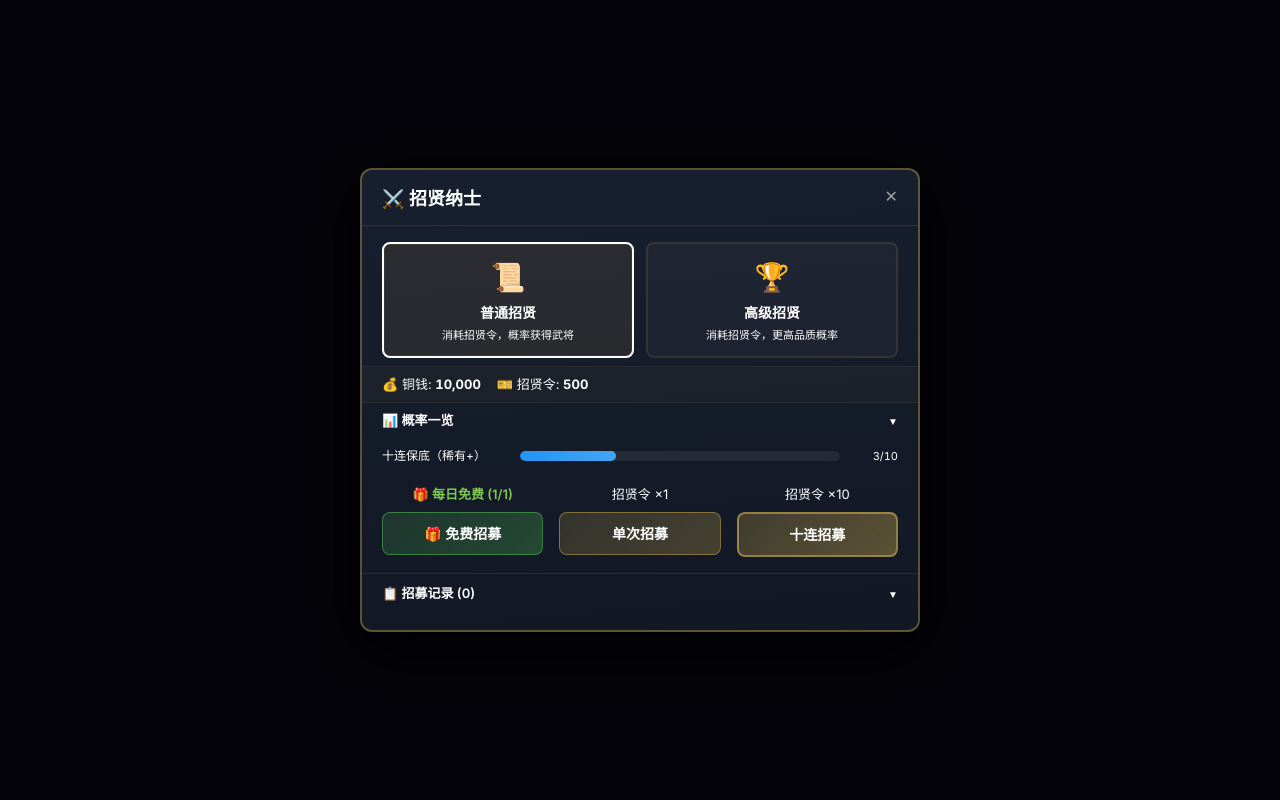
RecruitModal › 切换到高级招贤后概率表应更新
What coordinates should you click on to do the following:
click the button with test id "recruit-rates-toggle"
I would click on:
 (418, 420)
Its box is x1=382 y1=403 x2=898 y2=439.
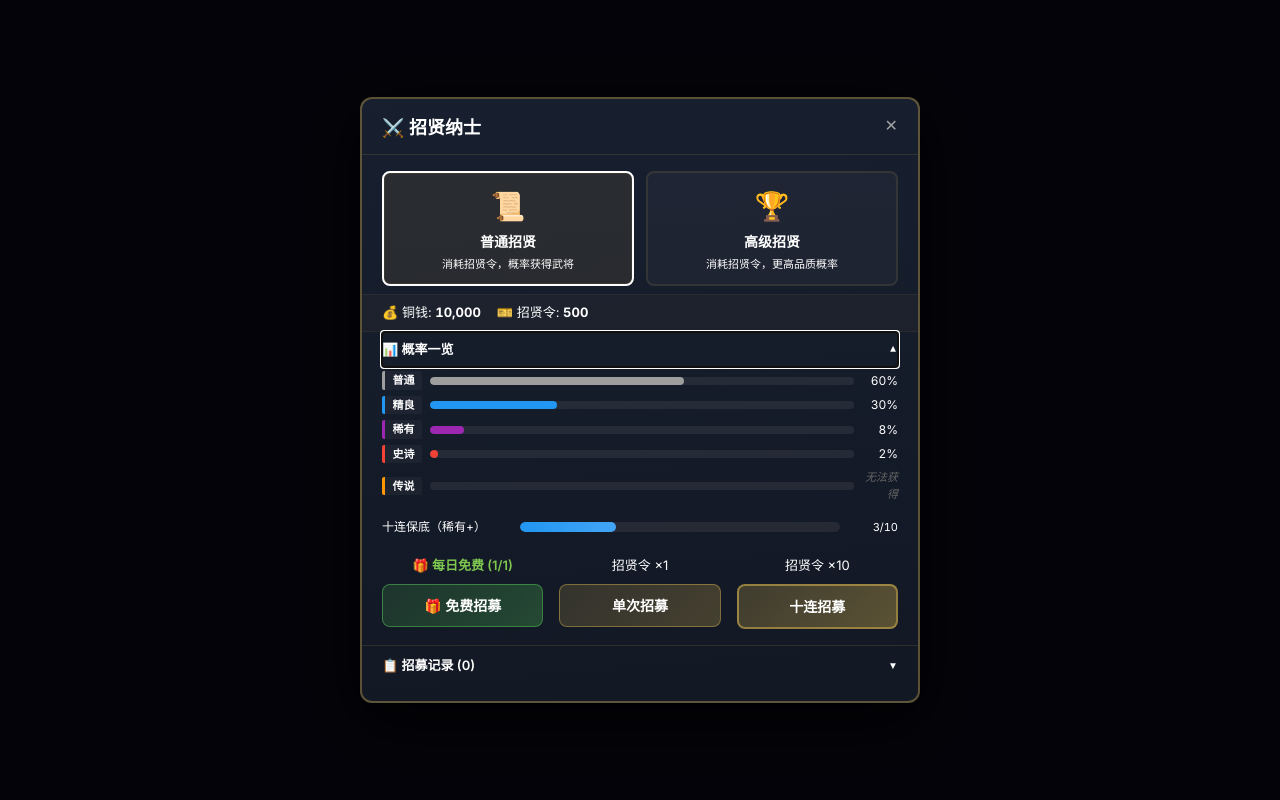
 切换到高级招贤
What coordinates should you click on to do the following:
click the button "🏆 高级招贤 消耗招贤令，更高品质概率"
I would click on:
 (772, 229)
Its box is x1=646 y1=171 x2=898 y2=286.
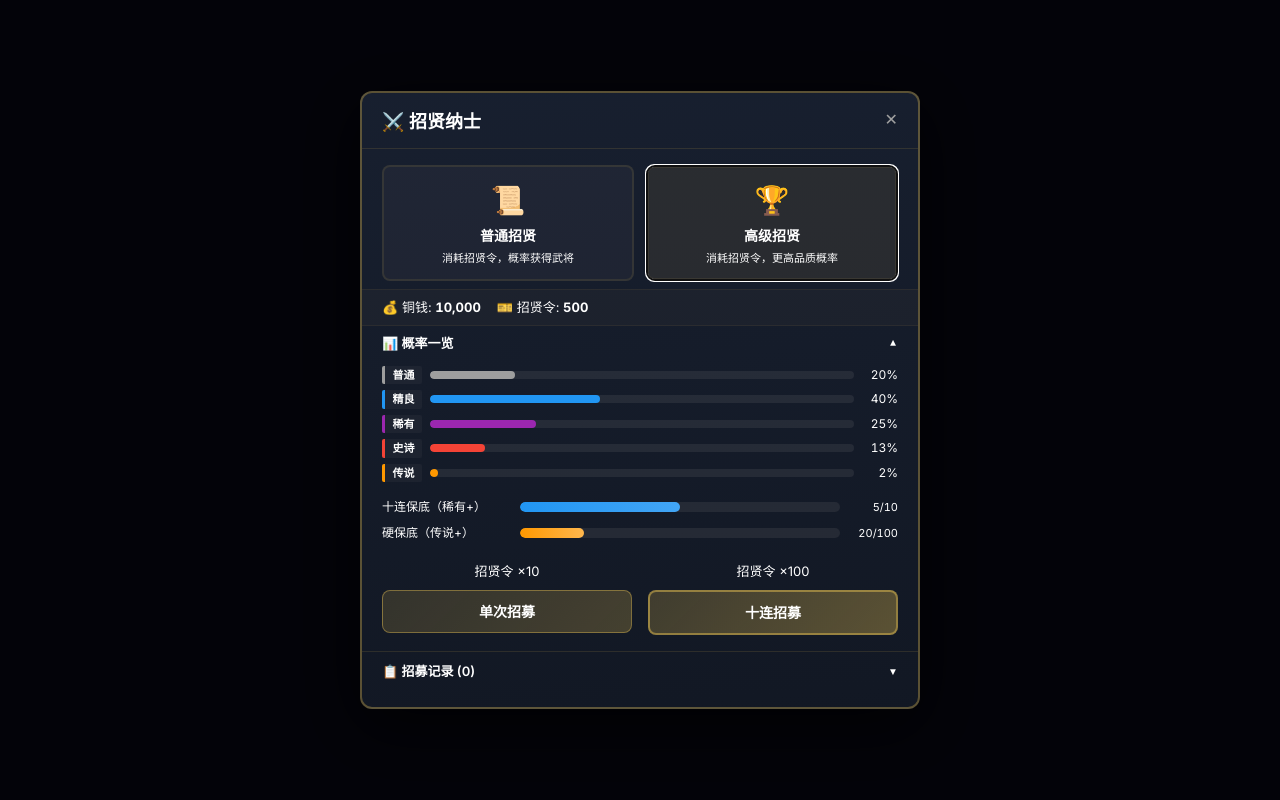
Check: the text "20%" is shown, box x1=871 y1=367 x2=898 y2=382
Check: the text "40%" is shown, box x1=871 y1=391 x2=898 y2=406
Check: the text "25%" is shown, box x1=871 y1=416 x2=898 y2=431
